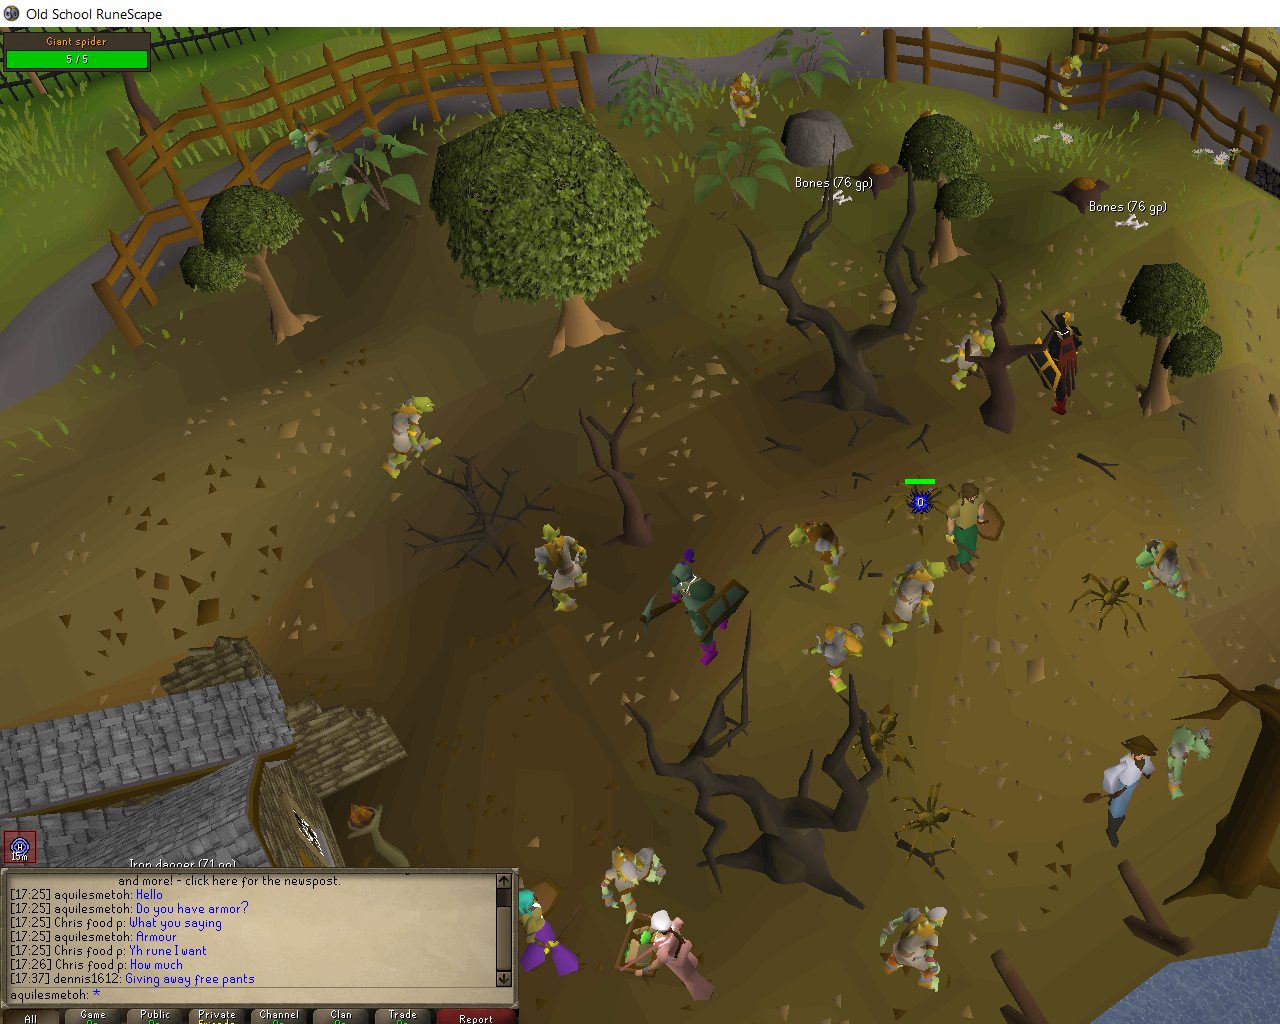Goblin: (868, 897, 963, 994), (379, 386, 448, 483), (596, 840, 669, 927), (530, 523, 596, 618), (1156, 722, 1226, 802), (787, 519, 850, 597), (1132, 534, 1197, 604), (940, 326, 1004, 393), (723, 69, 766, 127), (1046, 55, 1089, 114)
